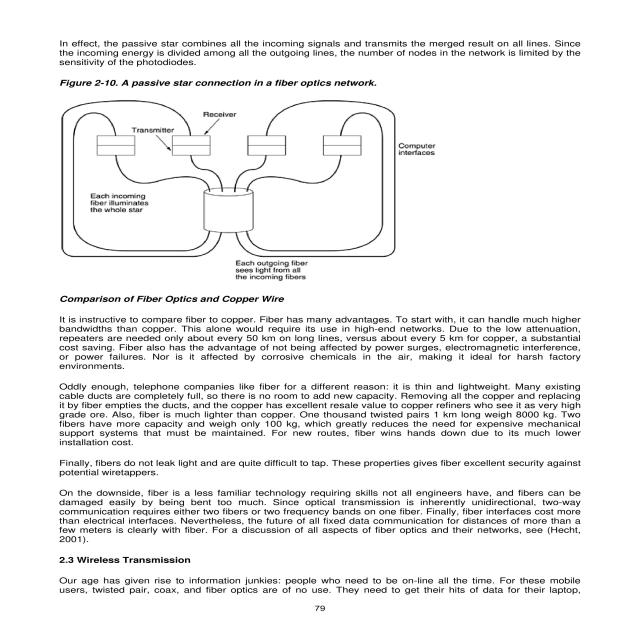diagram: (33, 75, 461, 309)
